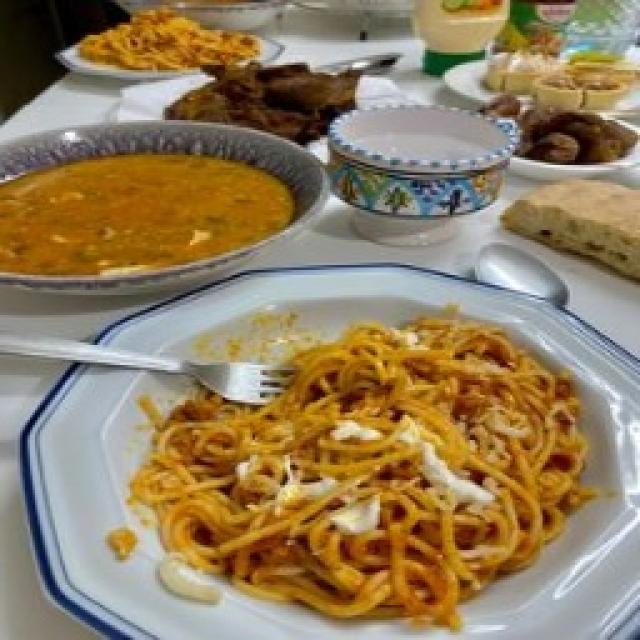Pasta: (20, 300, 612, 638)
